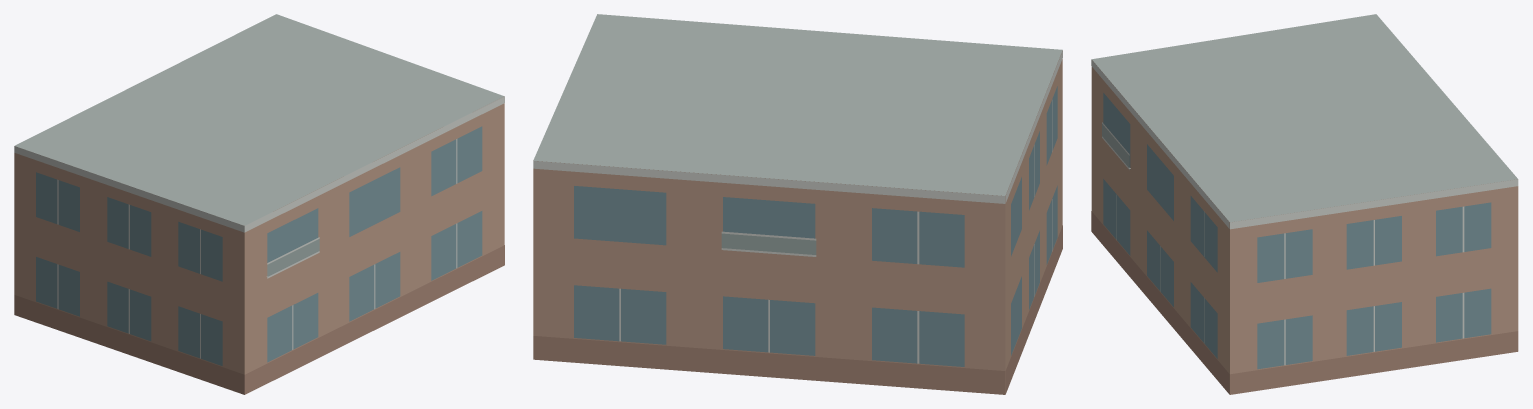
File: survey-upis-32842294.glb
3 views of the same model, side by side, from view 1: azimuth 30°, elevation 25°; view 2: azimuth 150°, elevation 25°; view 3: azimuth 270°, elevation 25° (orthographic). The views are drawn at different scales.
Parts seen in each view (by area): view 1: survey-upis-32842294.tmp; view 2: survey-upis-32842294.tmp; view 3: survey-upis-32842294.tmp.
Boxes of the visible parts, x1,y1,x2,y2 form: survey-upis-32842294.tmp: [14, 14, 504, 394]; survey-upis-32842294.tmp: [533, 14, 1062, 394]; survey-upis-32842294.tmp: [1091, 14, 1518, 394].
Size of the model in its own units: 15.82 by 6.1 by 13.69.
